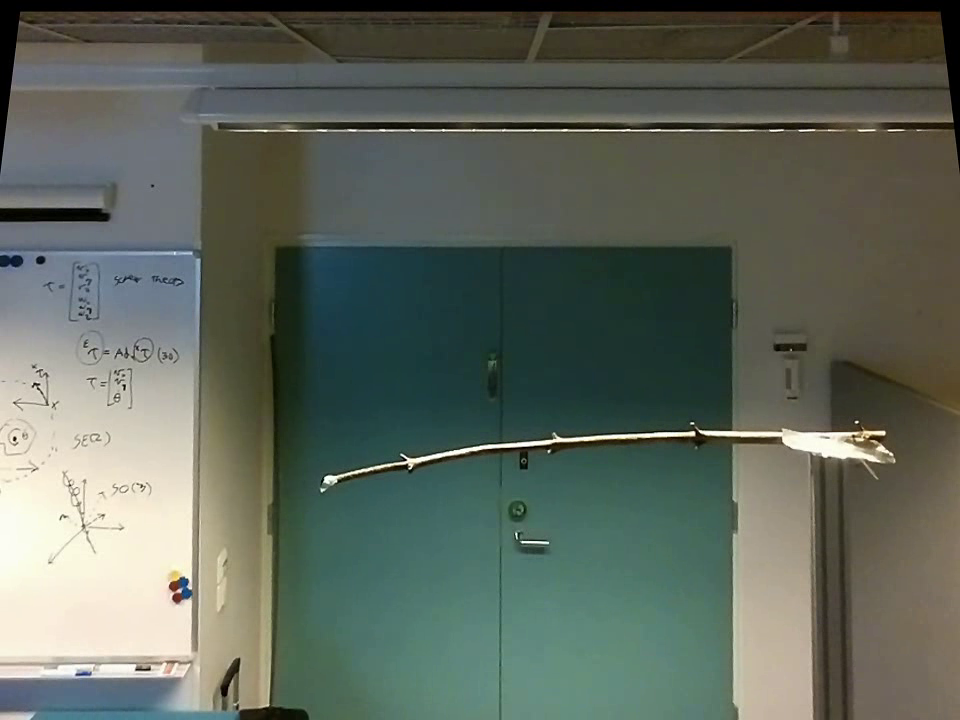aluminum_frame: (804, 455, 860, 715), (188, 246, 207, 661), (2, 649, 211, 685), (1, 243, 201, 259)
branch: (342, 412, 779, 495)
